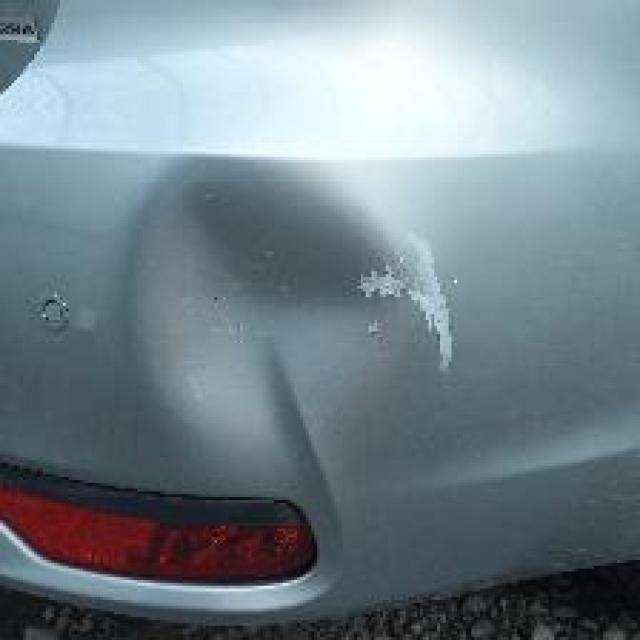damaged: (120, 152, 460, 477), (23, 274, 80, 343)
